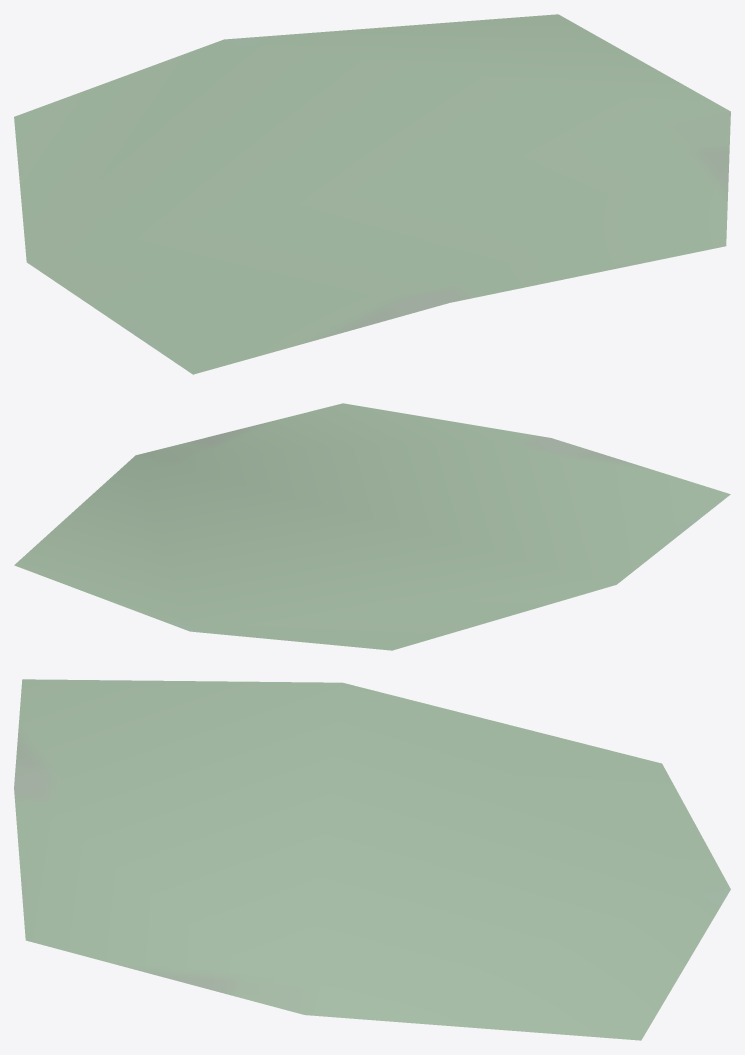
Rendered from TROLLHOLE02_HOLECAP141.fbx.
3 renders of one model, top to bottom at view 1: azimuth 30°, elevation 25°; view 2: azimuth 150°, elevation 25°; view 3: azimuth 270°, elevation 25°, orthographic. The views are drawn at different scales.
Visible parts, largest first — view 1: TROLLHOLE02_HOLECAP141; view 2: TROLLHOLE02_HOLECAP141; view 3: TROLLHOLE02_HOLECAP141.
Part boxes in pixels (bbox=[...]): TROLLHOLE02_HOLECAP141: bbox=[14, 14, 730, 374]; TROLLHOLE02_HOLECAP141: bbox=[14, 403, 730, 650]; TROLLHOLE02_HOLECAP141: bbox=[14, 679, 730, 1040].
Bounding box in the file's own units: 28070 × 1869 × 25758.
1 material, 1 textured.
